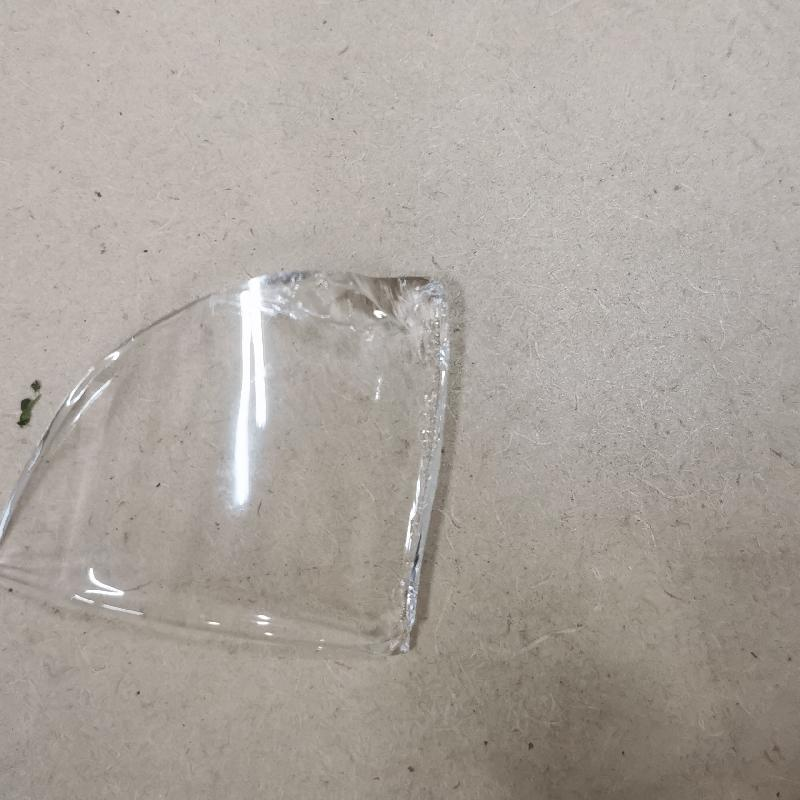glass: (0, 268, 455, 660)
